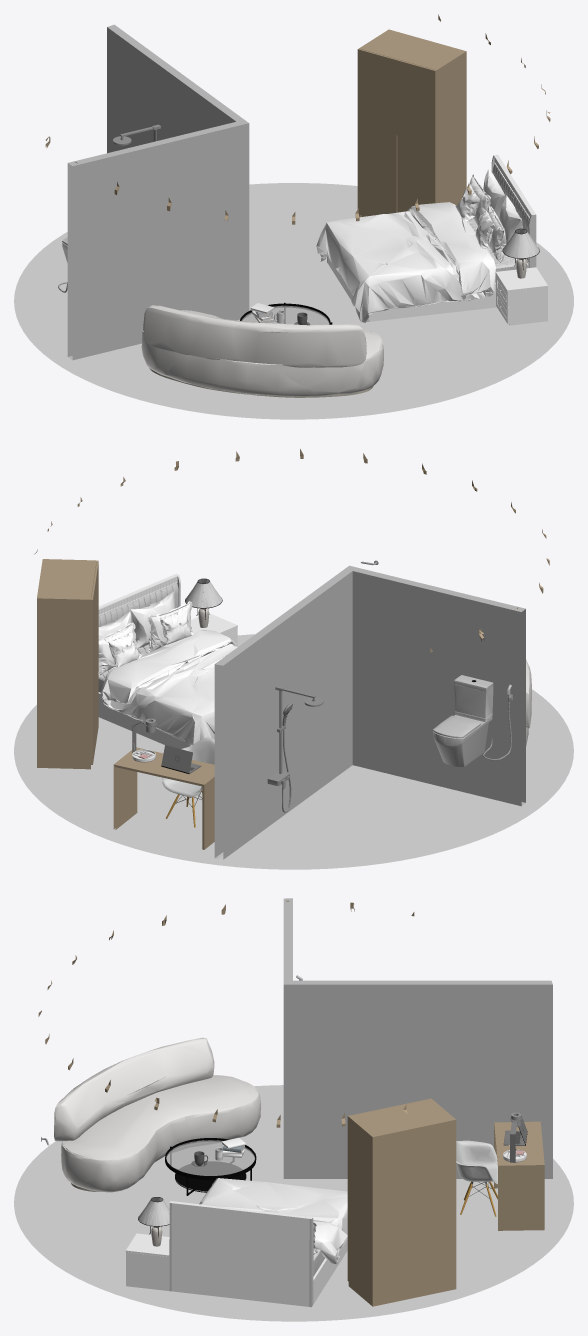
The model's file is symmetry.glb.
The picture shows the model from 3 angles, top to bottom: view 1: azimuth 30°, elevation 25°; view 2: azimuth 150°, elevation 25°; view 3: azimuth 270°, elevation 25°; orthographic projection.
Visible parts, largest first — view 1: SKP Vertex Colors, Floor, 01 - Default1, [Blinds_Cellular_White], [Wood_Cherry_Original]4, bed 1, bed 2, [Translucent Glass Gray]2; view 2: SKP Vertex Colors, Floor, [Blinds_Cellular_White], [Wood_Cherry_Original]4, bed 1, bed 2; view 3: SKP Vertex Colors, Floor, 01 - Default1, [Wood_Cherry_Original]4, [Blinds_Cellular_White], [Translucent Glass Gray]2, 6m.
Boxes of the visible parts, <box> form: SKP Vertex Colors: <box>45,14,550,397</box>; Floor: <box>14,183,573,419</box>; 01 - Default1: <box>141,305,383,396</box>; [Blinds_Cellular_White]: <box>316,169,522,322</box>; [Wood_Cherry_Original]4: <box>328,154,547,325</box>; bed 1: <box>469,174,506,262</box>; bed 2: <box>455,184,494,248</box>; [Translucent Glass Gray]2: <box>241,305,329,325</box>; SKP Vertex Colors: <box>34,449,549,859</box>; Floor: <box>14,634,573,869</box>; [Blinds_Cellular_White]: <box>98,591,237,744</box>; [Wood_Cherry_Original]4: <box>98,573,237,748</box>; bed 1: <box>98,601,192,675</box>; bed 2: <box>107,607,193,667</box>; SKP Vertex Colors: <box>38,898,552,1307</box>; Floor: <box>14,1085,573,1321</box>; 01 - Default1: <box>54,1037,260,1192</box>; [Wood_Cherry_Original]4: <box>125,1201,347,1306</box>; [Blinds_Cellular_White]: <box>199,1178,347,1263</box>; [Translucent Glass Gray]2: <box>166,1140,254,1175</box>; 6m: <box>215,1138,526,1161</box>.
Bounding box in the file's own units: 6 × 2.47 × 6.
